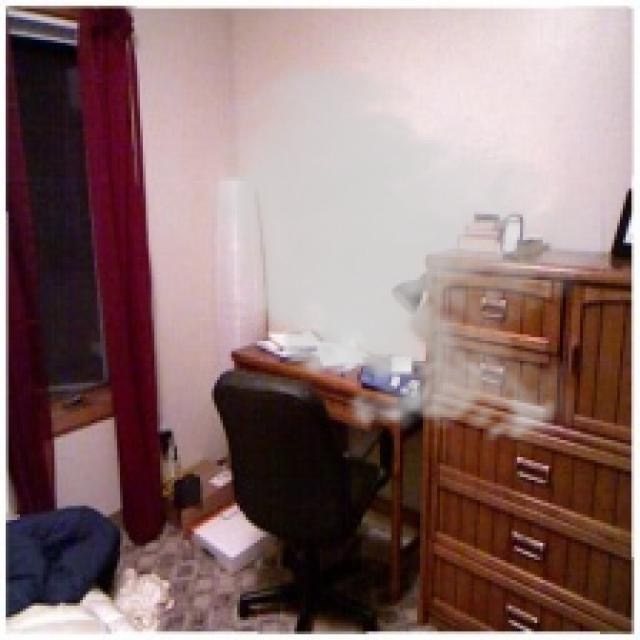Smoke: (191, 57, 606, 454)
